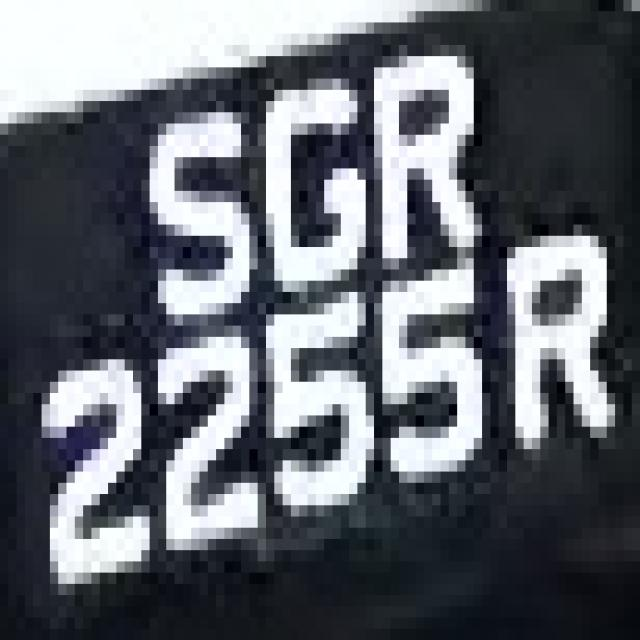2: (133, 269, 283, 562), (33, 326, 183, 595)
5: (258, 303, 390, 539), (358, 270, 490, 494)
G: (266, 68, 374, 314)
R: (491, 202, 624, 449), (366, 45, 490, 258)
S: (125, 78, 266, 336)
